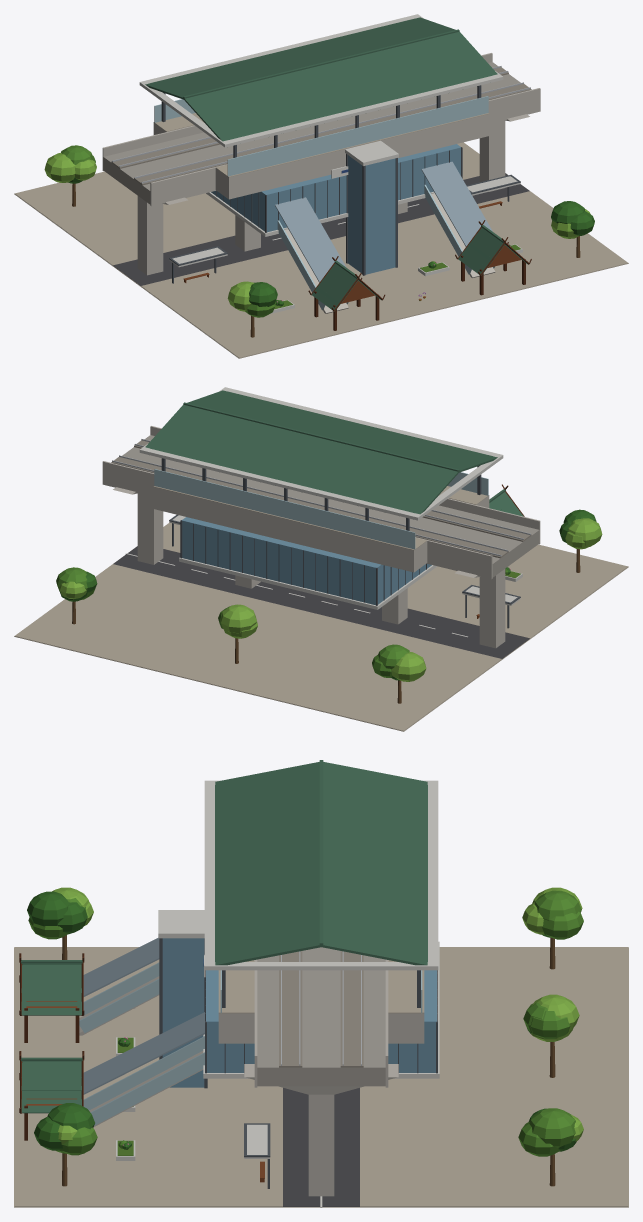
Rendered from station.glb.
3 views of the same model, one above another, from view 1: azimuth 30°, elevation 25°; view 2: azimuth 150°, elevation 25°; view 3: azimuth 270°, elevation 25° (orthographic). The views are drawn at different scales.
Parts seen in each view (by area): view 1: body; view 2: body; view 3: body.
Boxes of the visible parts, box(x1,y1,x2,y2) form: body: box(14, 14, 628, 358); body: box(14, 387, 628, 731); body: box(14, 760, 628, 1207).
Size of the model in its own units: 47.95 by 19.66 by 47.9.
